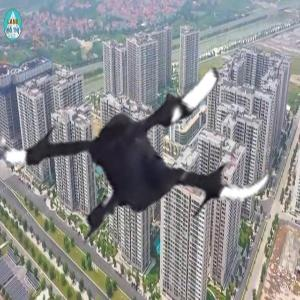drone: (5, 3, 284, 282)
